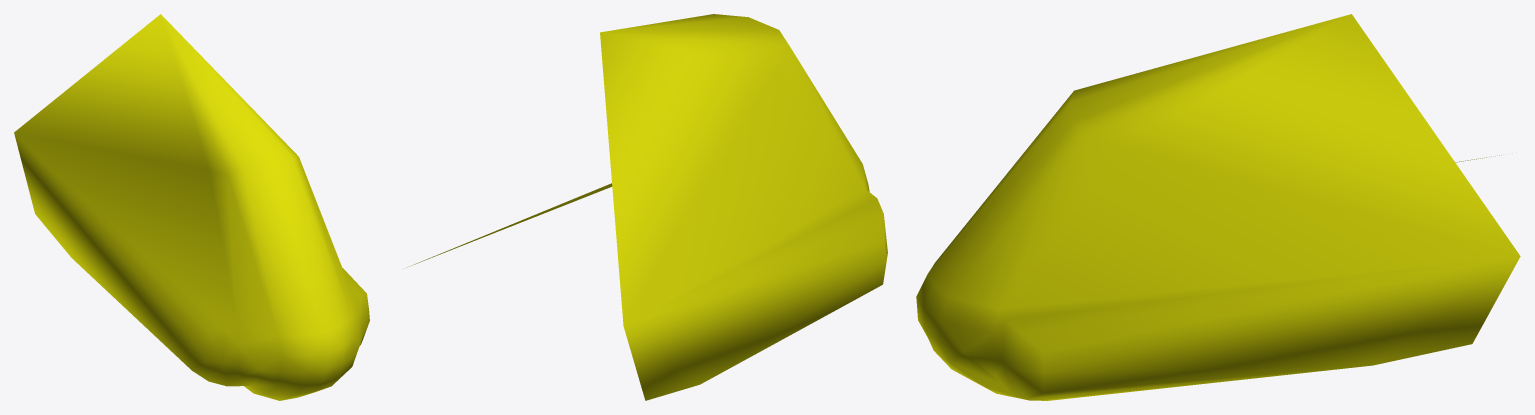
The model's file is Nose_16.glb.
The picture shows the model from 3 angles, left to right: view 1: azimuth 30°, elevation 25°; view 2: azimuth 150°, elevation 25°; view 3: azimuth 270°, elevation 25°; orthographic projection. The views are drawn at different scales.
Size of the model in its own units: 9.66 by 14.79 by 21.47.
